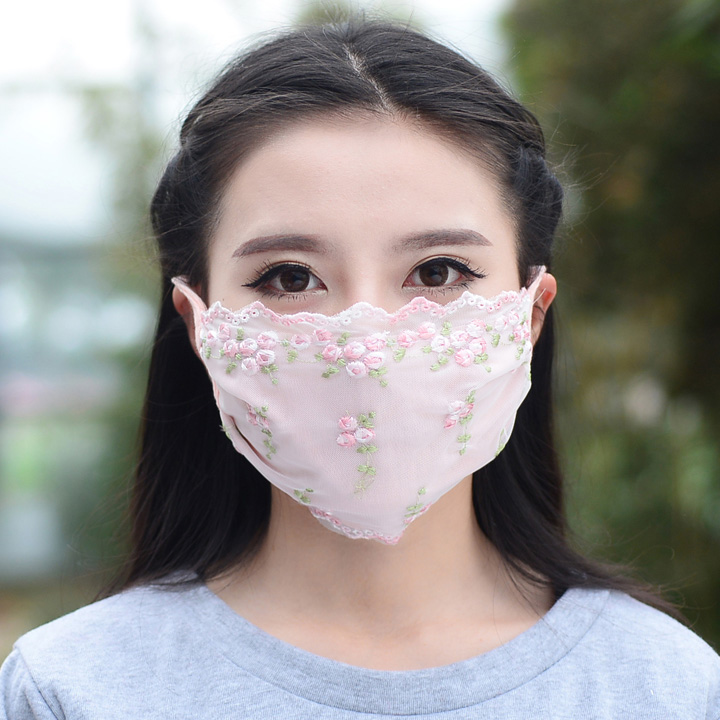face_mask: (203, 118, 532, 549)
